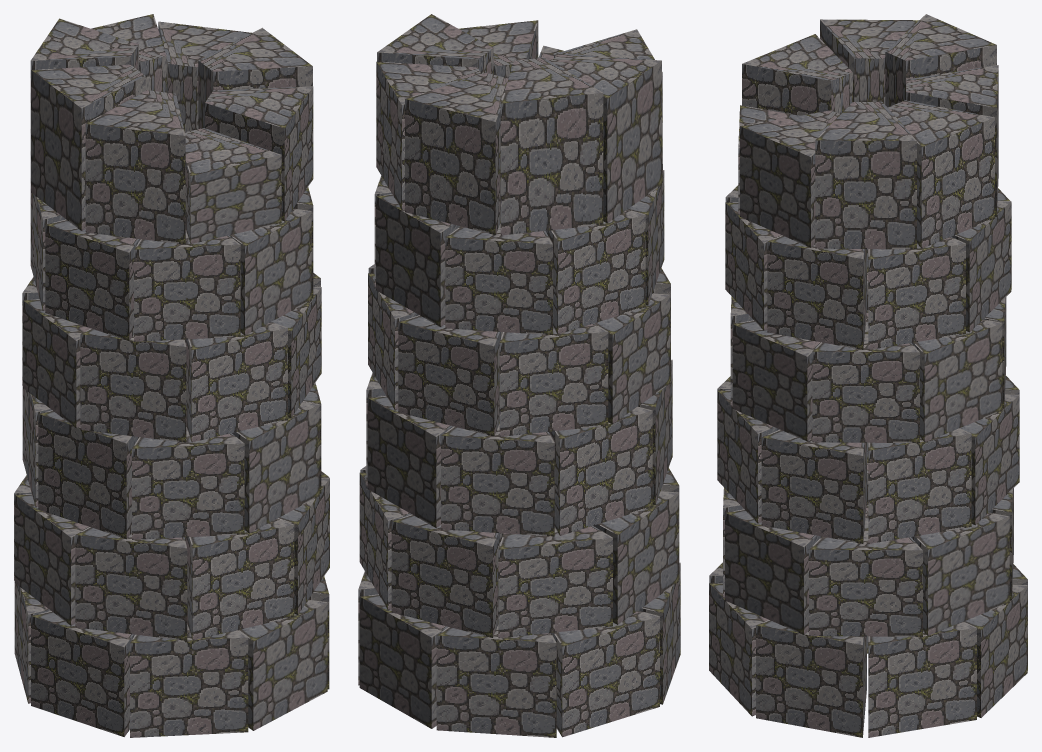
File: weathered_pillar.glb
The picture shows the model from 3 angles, left to right: view 1: azimuth 30°, elevation 25°; view 2: azimuth 150°, elevation 25°; view 3: azimuth 270°, elevation 25°; orthographic projection. The views are drawn at different scales.
Visible parts, largest first — view 1: WeatheredPillarMesh; view 2: WeatheredPillarMesh; view 3: WeatheredPillarMesh.
Part boxes in pixels (x1,y1,x2,y2): WeatheredPillarMesh: (14,14,329,737); WeatheredPillarMesh: (358,14,680,737); WeatheredPillarMesh: (709,14,1027,737).
Bounding box in the file's own units: 0.94 × 1.96 × 0.94.
1 material, 1 textured.
